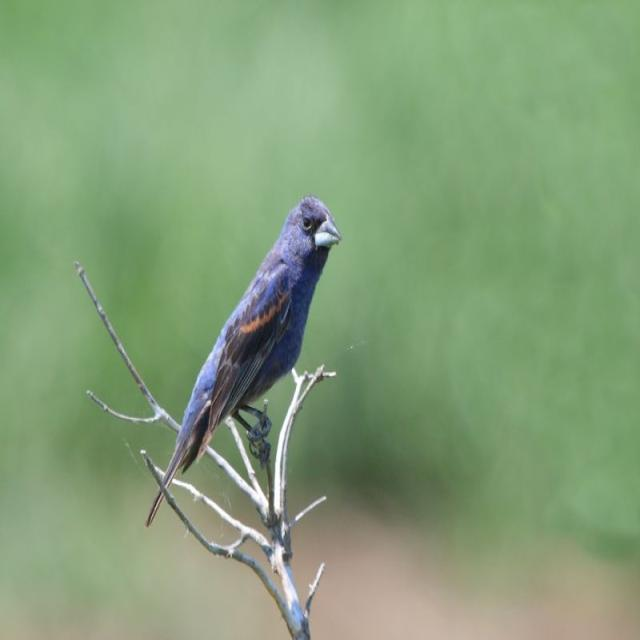bird: (169, 195, 362, 521)
